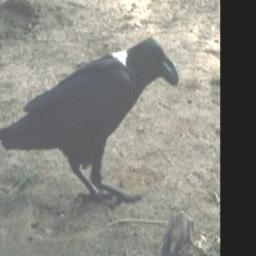Crow: (0, 34, 179, 208)
